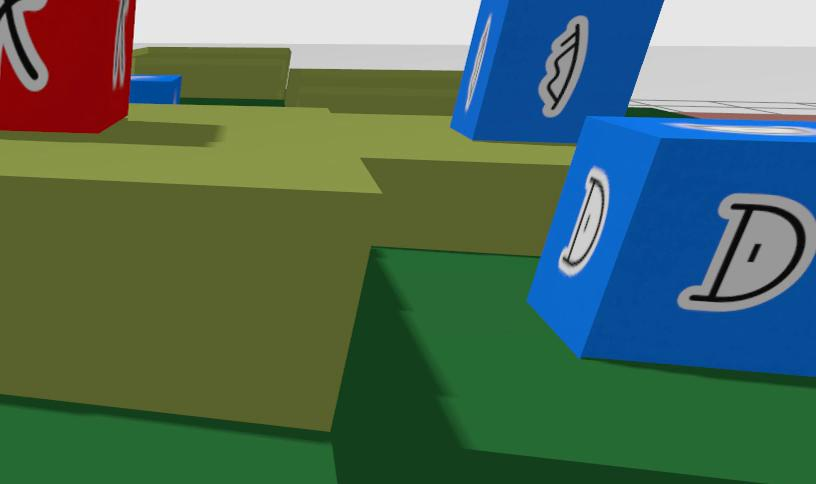KFS_FAKE: (0, 0, 136, 133), (0, 0, 49, 92), (112, 2, 128, 85)
KFS_REAL: (530, 116, 815, 377), (450, 0, 657, 142), (677, 192, 815, 312), (558, 166, 608, 277), (541, 15, 590, 120), (463, 16, 488, 110), (130, 73, 180, 102)
